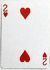two: (1, 1, 49, 69)
